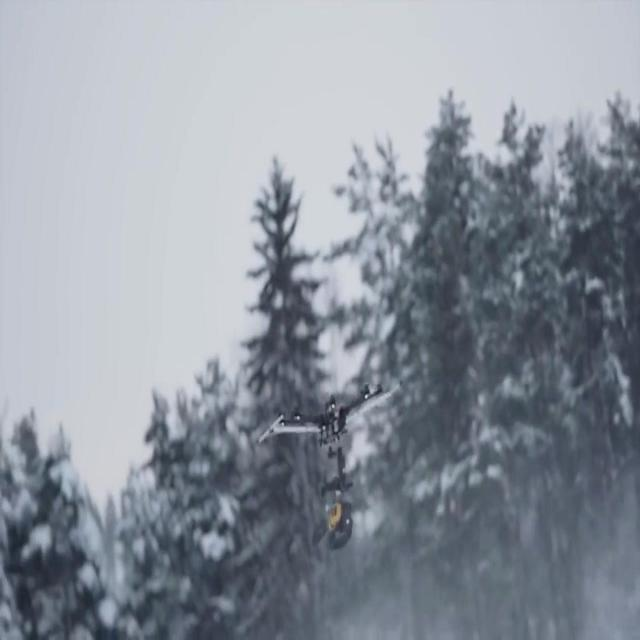UAV: (258, 380, 402, 444)
